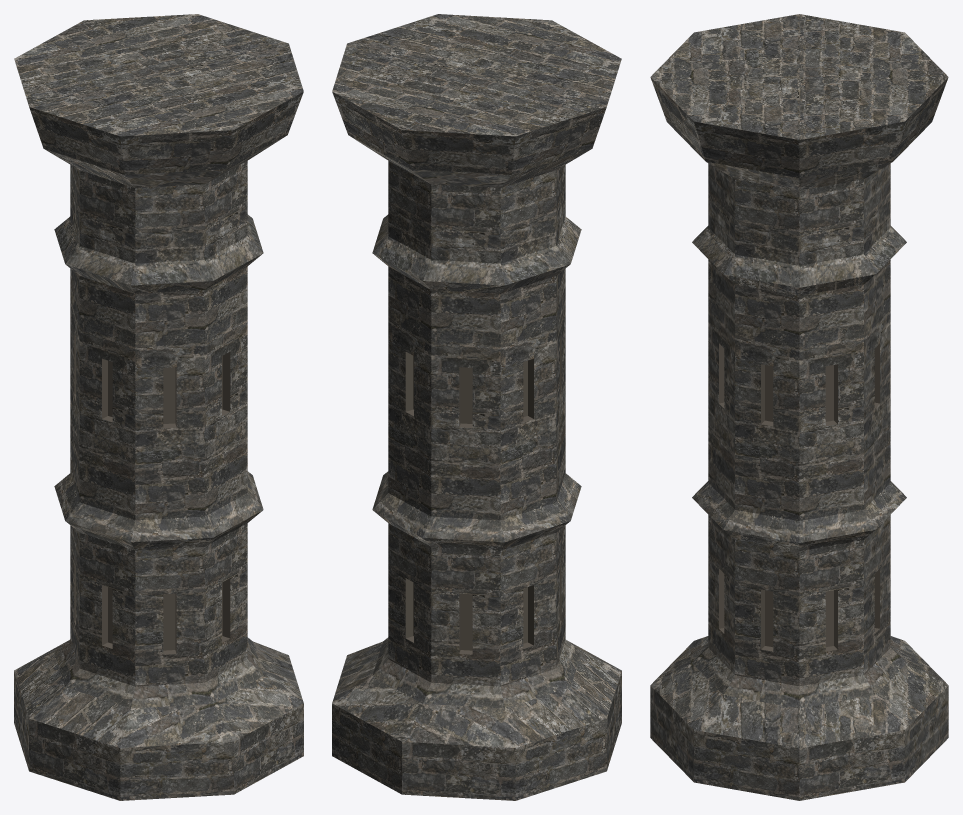
The model's file is dwarven-pillar-v01.glb.
The picture shows the model from 3 angles, left to right: view 1: azimuth 30°, elevation 25°; view 2: azimuth 150°, elevation 25°; view 3: azimuth 270°, elevation 25°; orthographic projection.
Parts seen in each view (by area): view 1: dwarven-pillar; view 2: dwarven-pillar; view 3: dwarven-pillar.
Part boxes in pixels (<box>): dwarven-pillar: <box>14,14,303,800</box>; dwarven-pillar: <box>332,14,621,800</box>; dwarven-pillar: <box>650,14,948,800</box>.
Size of the model in its own units: 1.8 by 4.4 by 1.8.
Materials: 1 (1 with a texture image).
